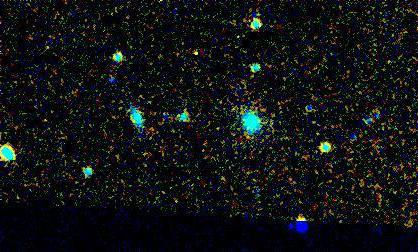star: (181, 38, 211, 68)
